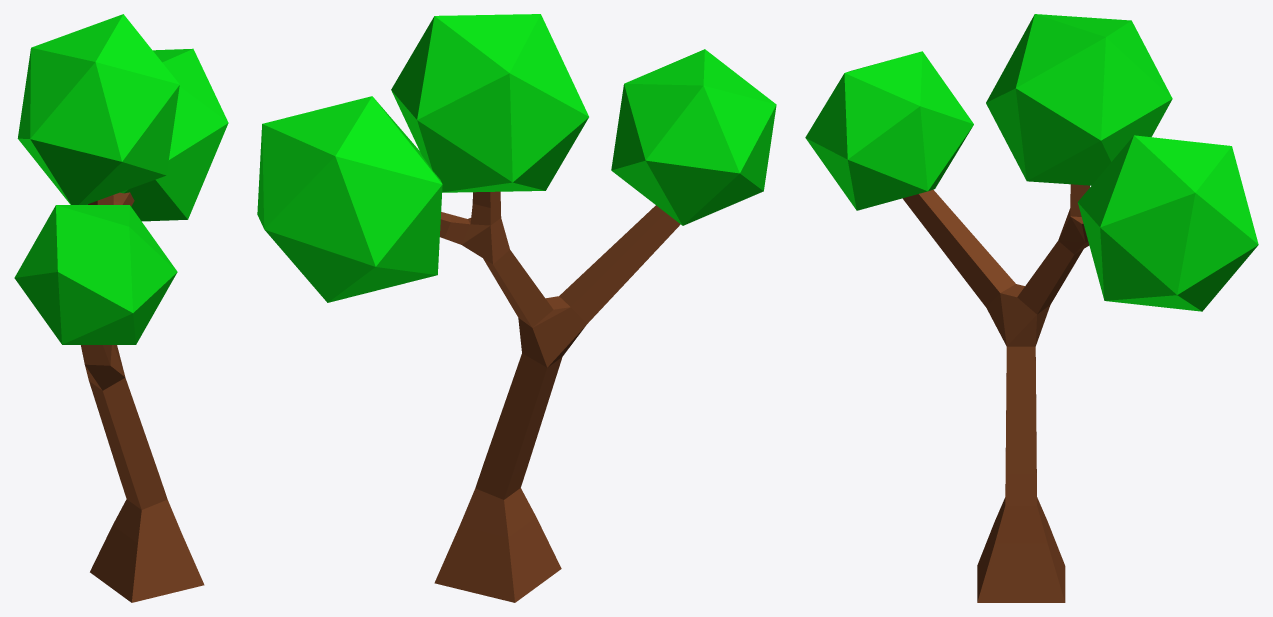
File: tree2.fbx
The picture shows the model from 3 angles, left to right: view 1: azimuth 30°, elevation 25°; view 2: azimuth 150°, elevation 25°; view 3: azimuth 270°, elevation 25°; orthographic projection. The views are drawn at different scales.
Parts seen in each view (by area): view 1: Icosphere.003, Icosphere.006, Icosphere.005, Tree2.001, Tree2; view 2: Icosphere.005, Icosphere.003, Icosphere.006, Tree2, Tree2.001; view 3: Icosphere.005, Icosphere.003, Icosphere.006, Tree2, Tree2.001.
Boxes of the visible parts, box(x1,y1,x2,y2) form: Icosphere.003: box(17, 14, 179, 204); Icosphere.006: box(14, 205, 177, 344); Icosphere.005: box(86, 48, 228, 221); Tree2.001: box(90, 499, 204, 602); Tree2: box(81, 192, 167, 509); Icosphere.005: box(257, 96, 442, 302); Icosphere.003: box(391, 14, 588, 192); Icosphere.006: box(611, 49, 776, 225); Tree2: box(440, 191, 680, 499); Tree2.001: box(434, 488, 561, 602); Icosphere.005: box(1077, 135, 1258, 311); Icosphere.003: box(986, 14, 1172, 185); Icosphere.006: box(805, 51, 973, 210); Tree2: box(902, 184, 1089, 505); Tree2.001: box(977, 497, 1065, 602).
Size of the model in its own units: 823 by 1312 by 971.
